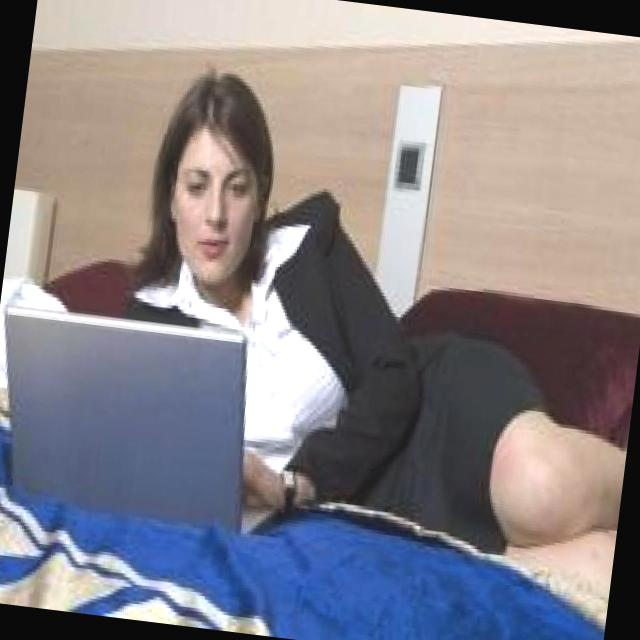no_vest: (147, 168, 436, 530)
